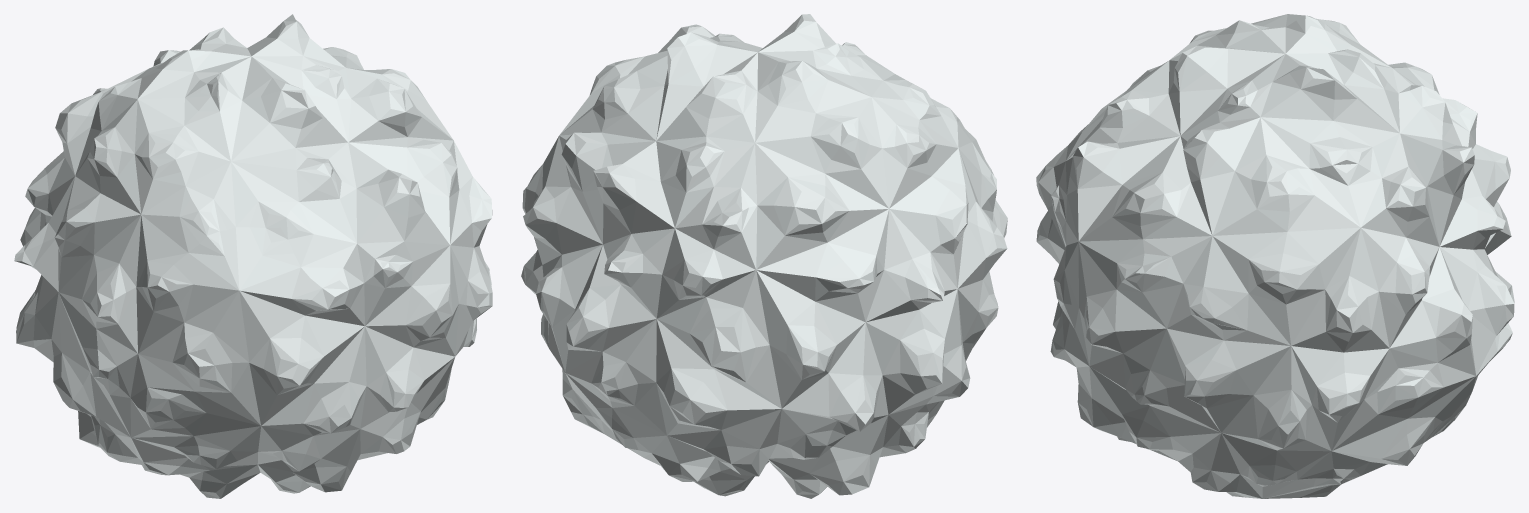
File: 1408 White Blood Cell.obj
The picture shows the model from 3 angles, left to right: view 1: azimuth 30°, elevation 25°; view 2: azimuth 150°, elevation 25°; view 3: azimuth 270°, elevation 25°; orthographic projection.
Visible parts, largest first — view 1: White_Blood_Cell; view 2: White_Blood_Cell; view 3: White_Blood_Cell.
Part boxes in pixels (x1=…): White_Blood_Cell: x1=14, y1=14, x2=492, y2=498; White_Blood_Cell: x1=521, y1=14, x2=1007, y2=498; White_Blood_Cell: x1=1036, y1=14, x2=1514, y2=498.
Bounding box in the file's own units: 19.99 × 19.72 × 19.71.
1 material, 1 textured.
